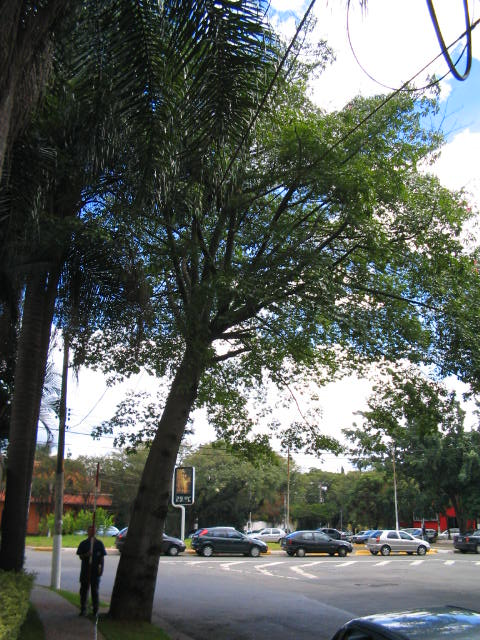crown: (97, 17, 474, 402)
stem: (105, 368, 215, 623)
stick: (80, 463, 107, 618)
tree: (94, 14, 478, 625)
